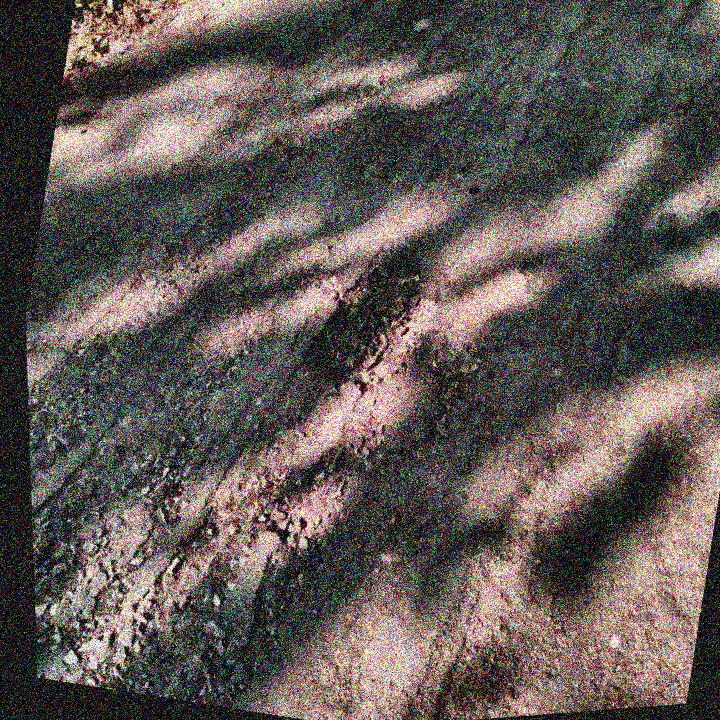pothole: (281, 230, 466, 420)
